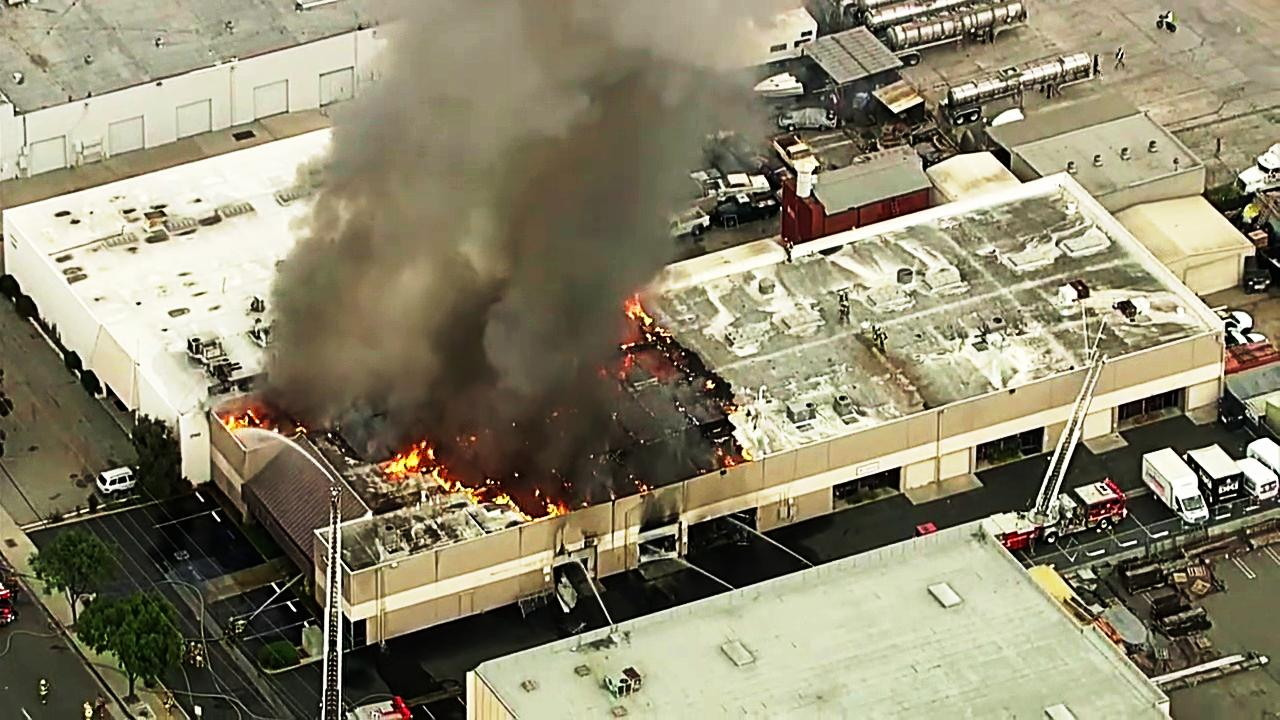smoke: (350, 0, 599, 308)
